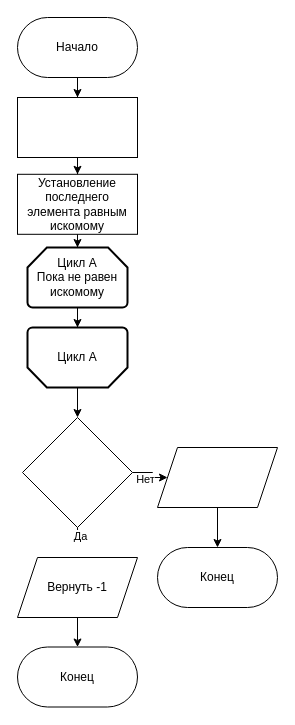
This 295x725 diagram has some shape labels left out. The box of each missing label's shape, as (x1, y1, x2, y2) in pixels:
Вернуть индекс текущего элемента: (156, 446, 278, 508)
Найденный элемент последний: (22, 416, 132, 528)
Создание массива размер которого на 1 больше, чем поданного: (16, 96, 138, 158)
